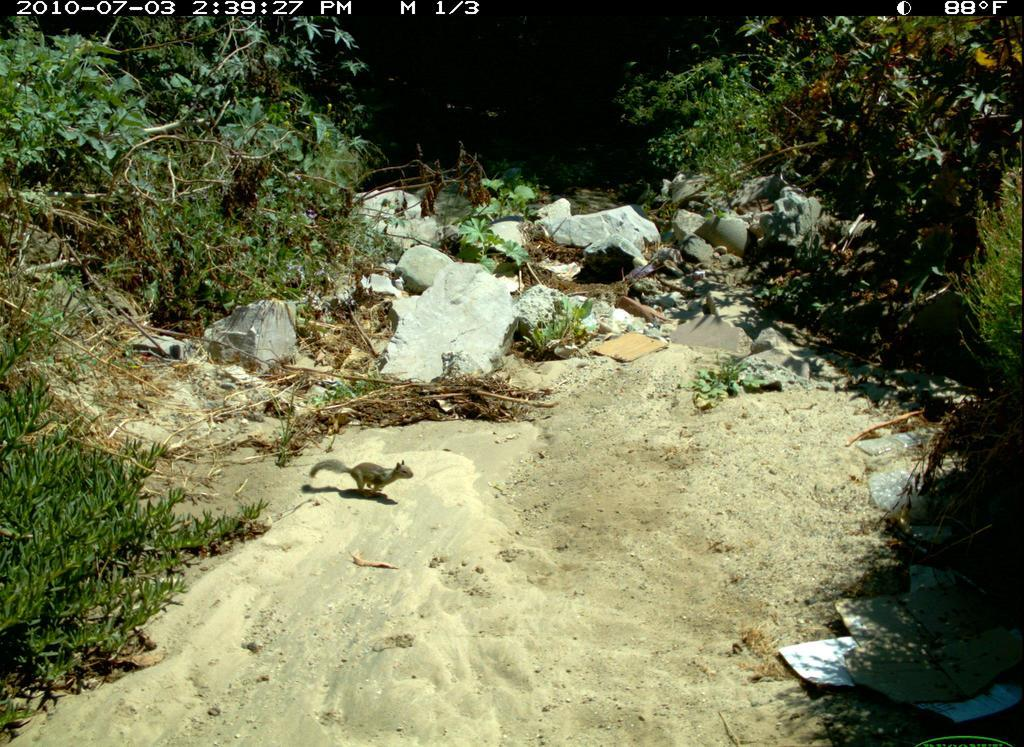squirrel: (303, 455, 417, 504)
